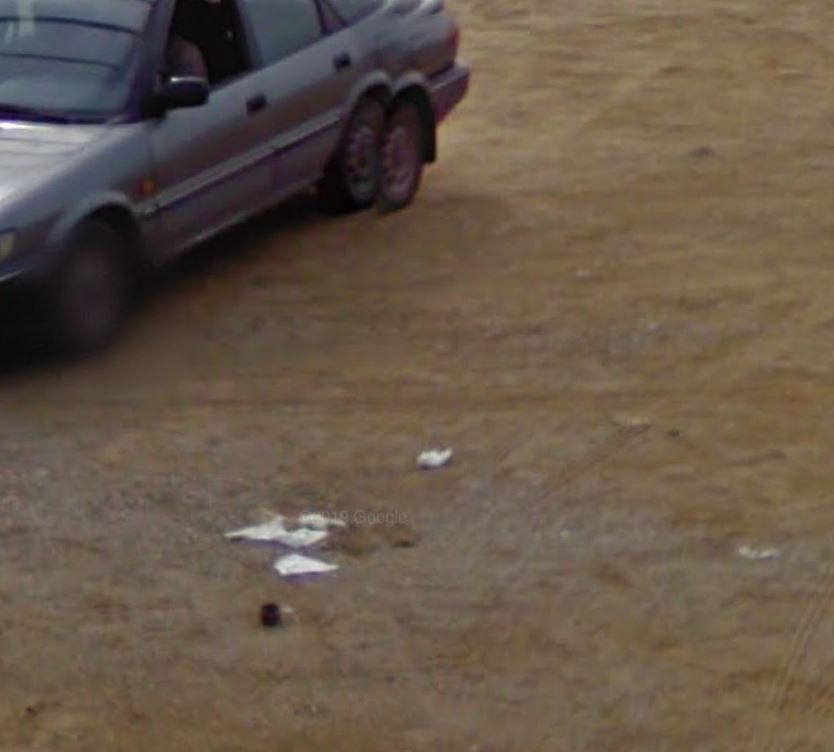trash: (225, 501, 353, 579), (411, 427, 454, 472), (255, 594, 284, 628)
